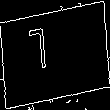L_S: (44, 28, 66, 82)
